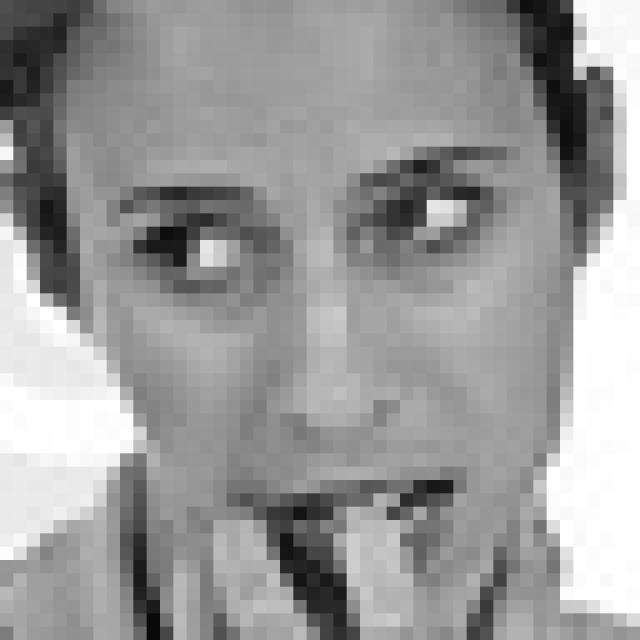fear: (108, 134, 521, 586)
